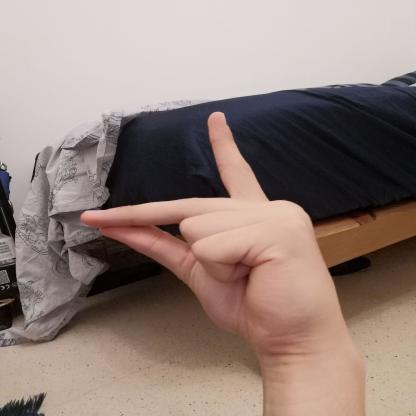TAA: (66, 99, 356, 367)
